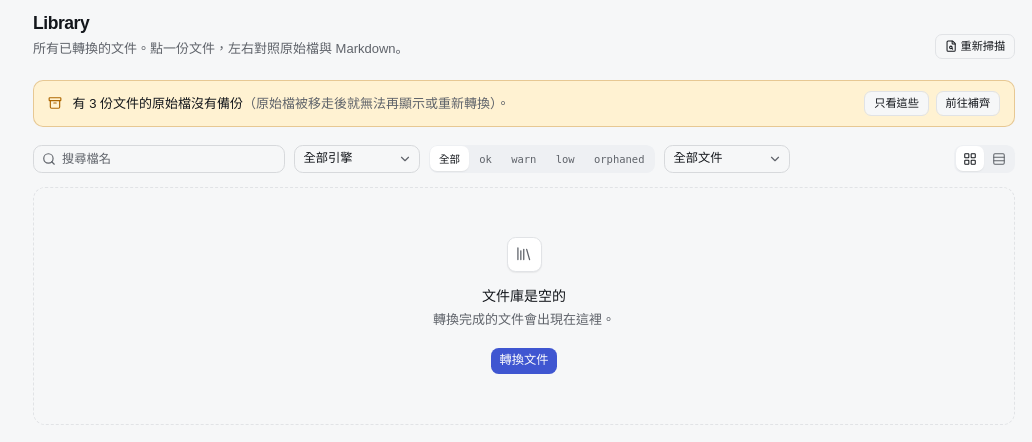
Test case: the 未備份 banner counts the documents and links to the filter and to Settings
This screenshot has width=1032, height=442.
Expected: the message with test id "source-copy-banner" shows "有 3 份文件的原始檔沒有備份", [33,80,1015,127]
Click the button "只看這些" at (897, 103), box [864,91,929,116]
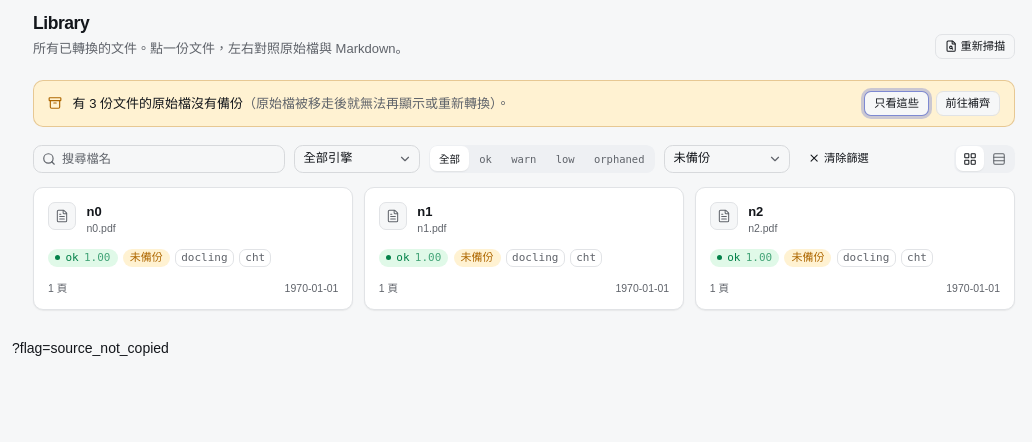
Expected: the text with test id "where" reads "?flag=source_not_copied", [12,340,169,356]
